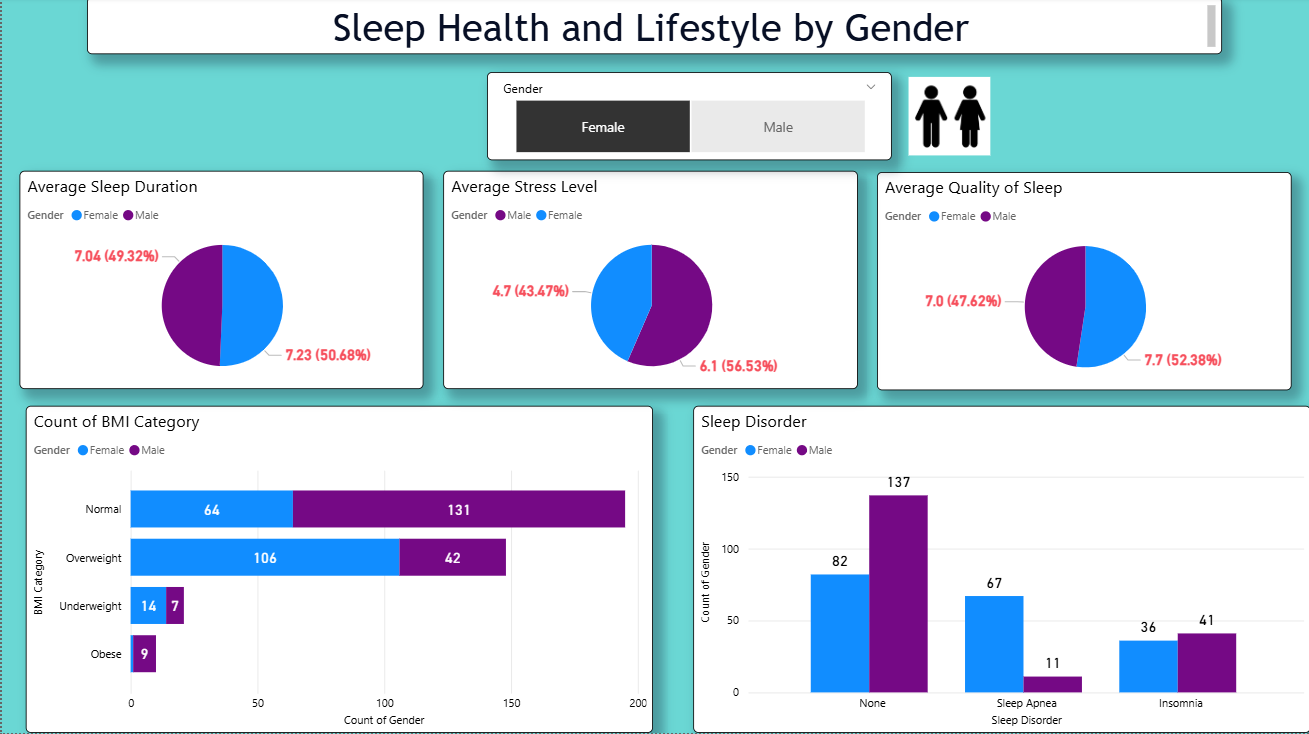

Layout of this report page (visuals, bound fields, positions):
{"tool":"powerbi","page":{"name":"Sleep Health Analysis by Gender","canvas":[1280,720],"ordinal":1},"visuals":[{"type":"barChart","title":"Count of BMI Category","fields":{"Category":["By Gender.BMI Category"],"Y":["CountNonNull(By Gender.Gender)"],"Series":["By Gender.Gender"]},"box":[23.8,400,613.8,320],"z":0},{"type":"pieChart","title":"Average Quality of Sleep","fields":{"Category":["By Gender.Gender"],"Y":["Avg(By Gender.Quality of Sleep)"]},"box":[855.7,171.1,405.8,213.9],"z":1000},{"type":"clusteredColumnChart","title":"Sleep Disorder ","fields":{"Category":["By Gender.Sleep Disorder"],"Y":["CountNonNull(By Gender.Gender)"],"Series":["By Gender.Gender"]},"box":[676,399.7,603.9,320.3],"z":2000},{"type":"pieChart","title":"Average Sleep Duration","fields":{"Y":["Avg(By Gender.Sleep Duration)"],"Category":["By Gender.Gender"]},"box":[17.1,169.9,394.8,213.9],"z":3000},{"type":"pieChart","title":"Average Stress Level","fields":{"Category":["By Gender.Gender"],"Y":["Avg(By Gender.Stress Level)"]},"box":[431.5,169.9,405.8,213.9],"z":4000},{"type":"slicer","fields":{"Values":["Overview.Gender"]},"box":[474.3,73.3,396.1,86.8],"z":5000},{"type":"textbox","box":[82.8,0,1110.4,56.2],"z":6000},{"type":"image","box":[859.4,73.3,134.5,86.8],"z":7000}]}

Visuals, with their boxes in screenshot pixels (x1, y1, x2, y2), scaled from the page's 1280x720 canvas onto the 1309x734 screenshot:
"Count of BMI Category" barChart: l=24, t=408, r=652, b=733
"Average Quality of Sleep" pieChart: l=875, t=174, r=1290, b=392
"Sleep Disorder " clusteredColumnChart: l=691, t=407, r=1308, b=733
"Average Sleep Duration" pieChart: l=17, t=173, r=421, b=391
"Average Stress Level" pieChart: l=441, t=173, r=856, b=391
slicer - Overview.Gender: l=485, t=75, r=890, b=163
textbox: l=85, t=0, r=1220, b=57
image: l=879, t=75, r=1016, b=163
